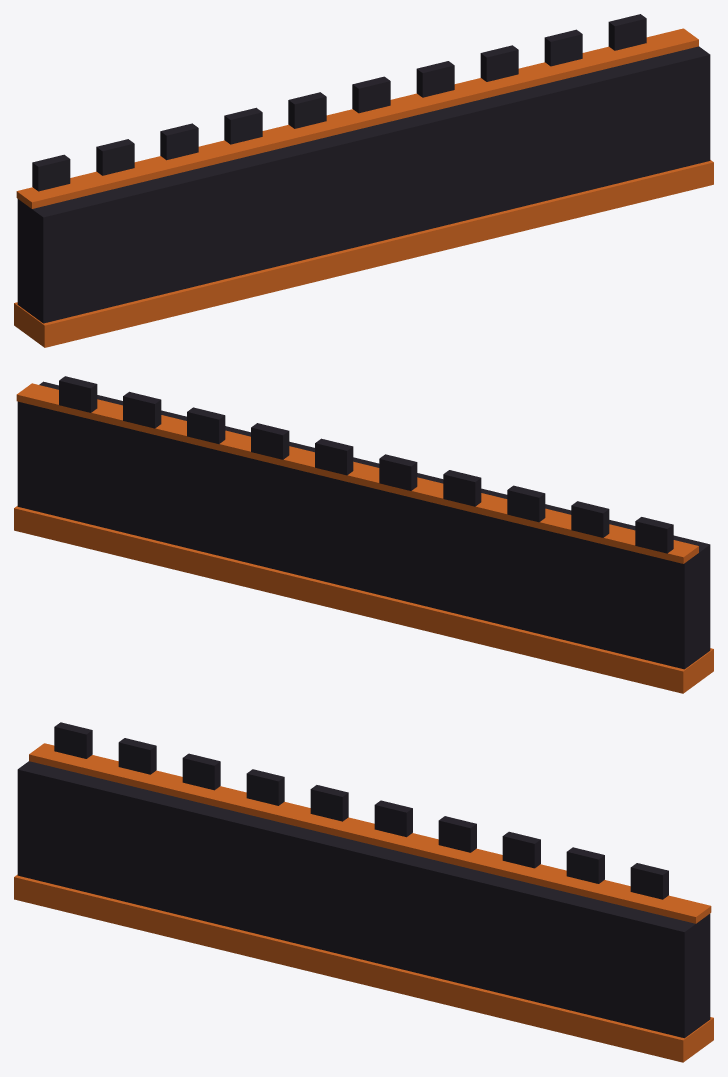
Rendered from demon_wall.glb.
The picture shows the model from 3 angles, top to bottom: view 1: azimuth 30°, elevation 25°; view 2: azimuth 150°, elevation 25°; view 3: azimuth 330°, elevation 25°; orthographic projection.
Visible parts, largest first — view 1: demon_wall; view 2: demon_wall; view 3: demon_wall.
Boxes of the visible parts, x1,y1,x2,y2 form: demon_wall: (14, 14, 713, 347); demon_wall: (14, 376, 713, 693); demon_wall: (14, 722, 713, 1062).
Bounding box in the file's own units: 6.27 × 1.43 × 0.5.
